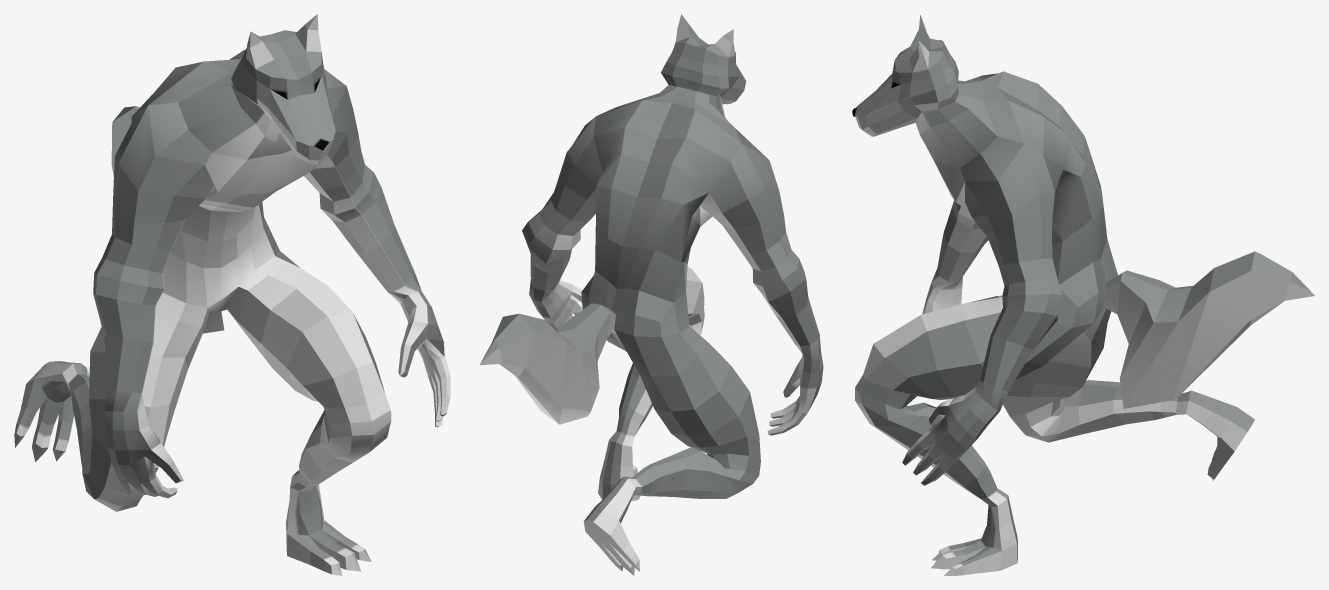
File: WolfWalk(16).obj
The picture shows the model from 3 angles, left to right: view 1: azimuth 30°, elevation 25°; view 2: azimuth 150°, elevation 25°; view 3: azimuth 270°, elevation 25°; orthographic projection. The views are drawn at different scales.
Parts seen in each view (by area): view 1: Box001; view 2: Box001; view 3: Box001.
Part boxes in pixels (left/top/right/bottom): Box001: left=14, top=14, right=450, bottom=575; Box001: left=479, top=14, right=823, bottom=575; Box001: left=852, top=15, right=1314, bottom=575.
Bounding box in the file's own units: 76.46 × 123 × 102.
